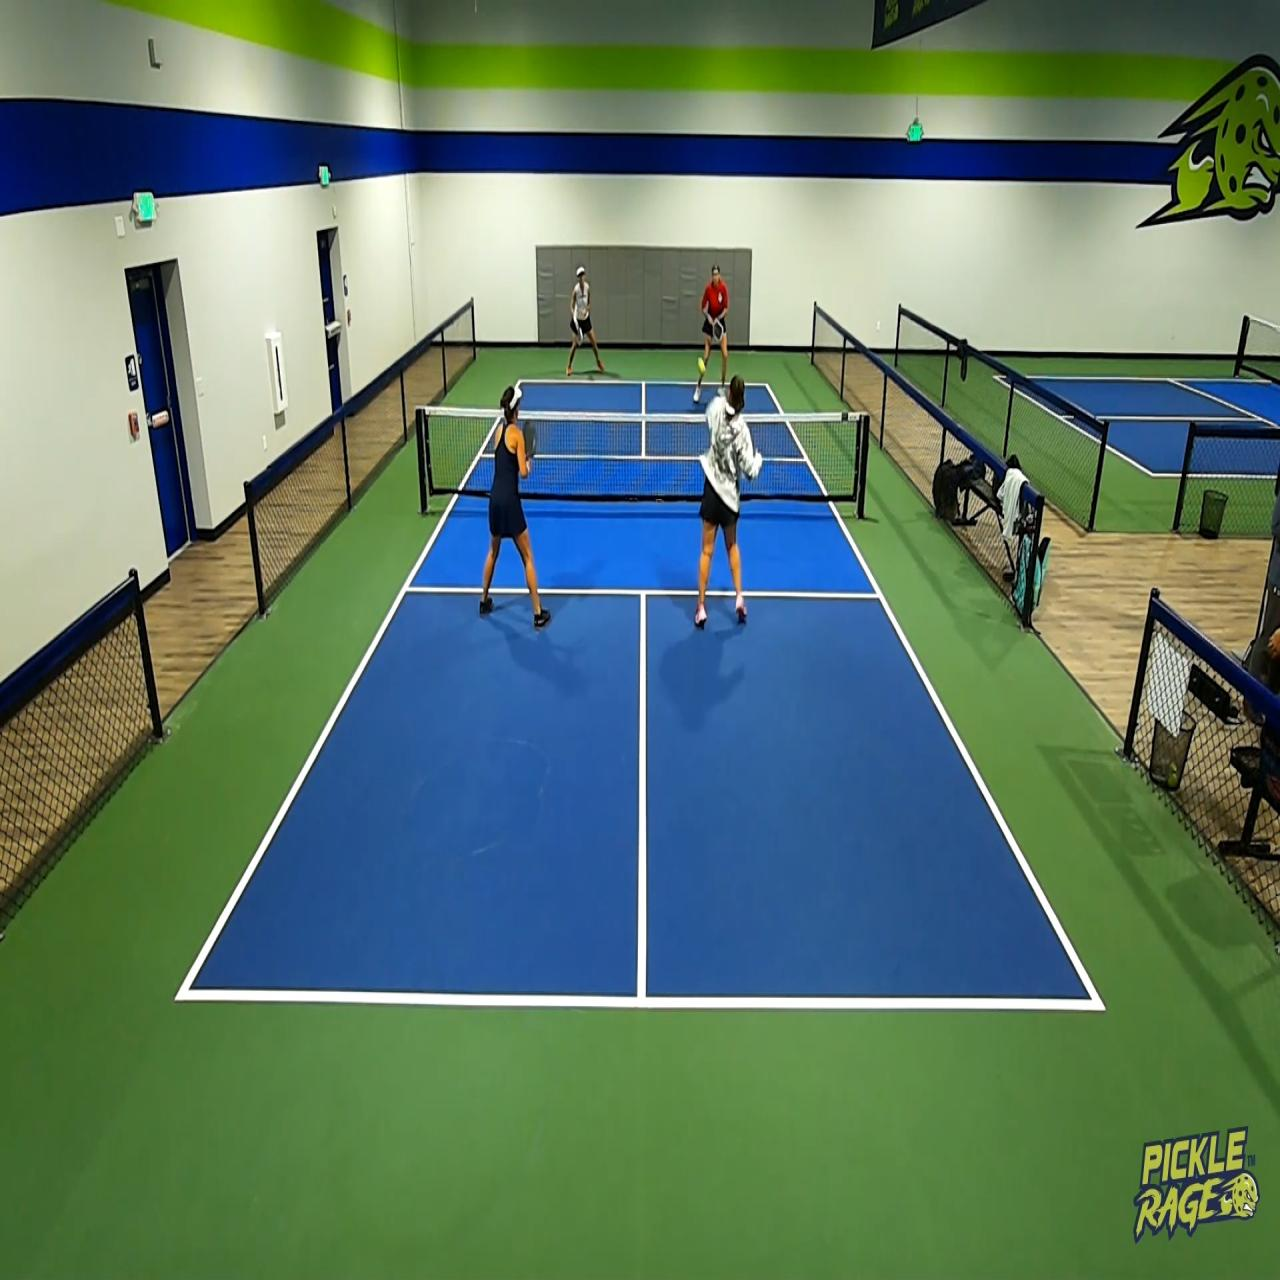Pickleball: (696, 354, 707, 377)
